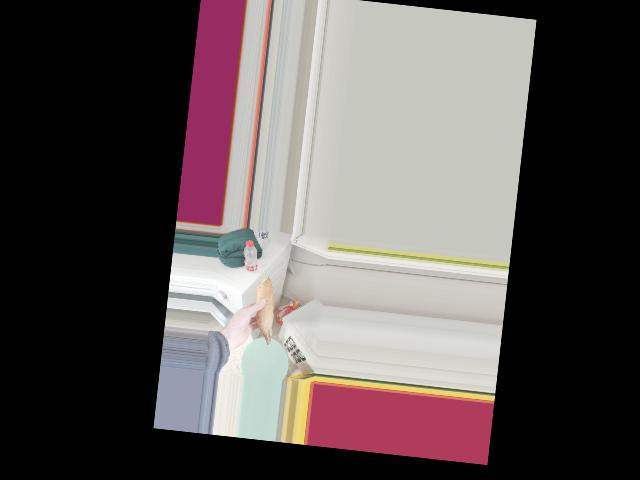sweet_potato: (253, 273, 280, 350)
